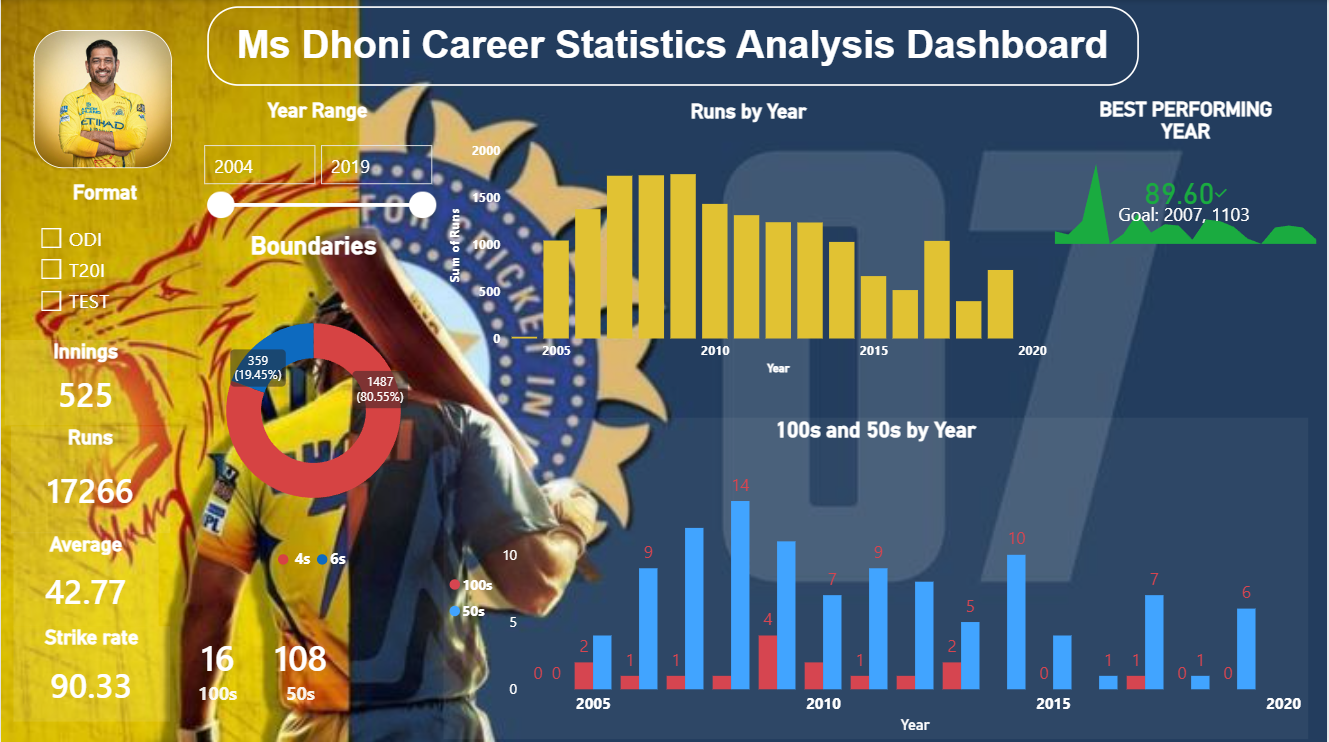

The dashboard page shown, as its layout file describes it:
{"tool":"powerbi","page":{"name":"Page 1","canvas":[1280,720],"ordinal":0},"visuals":[{"type":"image","box":[31.9,28.7,133.8,133.8],"z":0,"group":"g1"},{"type":"textbox","box":[198.7,6.2,898.8,76.8],"z":1000,"group":"g1"},{"type":"cardVisual","title":"Innings","fields":{"Data":["Sum(Sheet1.Innings)"]},"box":[3.8,328.7,156.4,82.3],"z":2000,"group":"g1"},{"type":"cardVisual","title":"Runs","fields":{"Data":["Sum(Sheet1.Runs)"]},"box":[9.3,411,153.7,102.9],"z":3000,"group":"g1"},{"type":"cardVisual","title":"Average","fields":{"Data":["Avg(Sheet1.Avg)"]},"box":[12,513.9,140,90.6],"z":4000,"group":"g1"},{"type":"cardVisual","title":"Strike rate","fields":{"Data":["Avg(Sheet1.SR)"]},"box":[12,604.5,150.9,91.9],"z":5000,"group":"g1"},{"type":"listSlicer","fields":{"Values":["Sheet1.Format"]},"box":[32.6,175,135.8,153.7],"z":6000,"group":"g1"},{"type":"slicer","title":"Year Range","fields":{"Values":["Sheet1.Year"]},"box":[183.6,95.4,244.3,127.6],"z":7000,"group":"g1"},{"type":"clusteredColumnChart","title":"Runs by Year","fields":{"Y":["Sum(Sheet1.Runs)"],"Category":["Sheet1.Year"]},"box":[428.2,96.2,586.2,270],"z":8000,"group":"g1"},{"type":"donutChart","title":"Boundaries","fields":{"Y":["Sum(Sheet1.4s)","Sum(Sheet1.6s)"]},"box":[160.2,223,282.7,336.2],"z":9000,"group":"g1"},{"type":"clusteredColumnChart","fields":{"Category":["Sheet1.Year"],"Y":["Sum(Sheet1.100)","Sum(Sheet1.50)"]},"box":[427.2,403.7,834.3,310.1],"z":10000,"group":"g1"},{"type":"cardVisual","title":"100s &50s","fields":{"Data":["Sum(Sheet1.100)","Sum(Sheet1.50)"]},"box":[151.9,593.7,195,103.8],"z":11000,"group":"g1"},{"type":"kpi","title":"BEST PERFORMING YEAR","fields":{"Indicator":["Sum(Sheet1.SR)"],"Goal":["Sum(Sheet1.Year)","Sum(Sheet1.Runs)"],"TrendLine":["Sheet1.Innings"]},"box":[1012.9,94.6,262.5,146.2],"z":12000,"group":"g1"},{"type":"group","id":"g1","title":"Group 1","box":[3.8,6.2,1271.6,707.6],"z":12001}]}

Visuals, with their boxes in screenshot pixels (x1, y1, x2, y2), scaled from the page's 1280x720 canvas onto the 1329x742 screenshot:
image: (x1=33, y1=30, x2=172, y2=167)
textbox: (x1=206, y1=6, x2=1140, y2=86)
"Innings" cardVisual: (x1=4, y1=339, x2=166, y2=424)
"Runs" cardVisual: (x1=10, y1=424, x2=169, y2=530)
"Average" cardVisual: (x1=12, y1=530, x2=158, y2=623)
"Strike rate" cardVisual: (x1=12, y1=623, x2=169, y2=718)
listSlicer - Sheet1.Format: (x1=34, y1=180, x2=175, y2=339)
"Year Range" slicer: (x1=191, y1=98, x2=444, y2=230)
"Runs by Year" clusteredColumnChart: (x1=445, y1=99, x2=1053, y2=377)
"Boundaries" donutChart: (x1=166, y1=230, x2=460, y2=576)
clusteredColumnChart - Sheet1.Year x Sum(Sheet1.100): (x1=444, y1=416, x2=1310, y2=736)
"100s &50s" cardVisual: (x1=158, y1=612, x2=360, y2=719)
"BEST PERFORMING YEAR" kpi: (x1=1052, y1=97, x2=1324, y2=248)
"Group 1" group: (x1=4, y1=6, x2=1324, y2=736)
